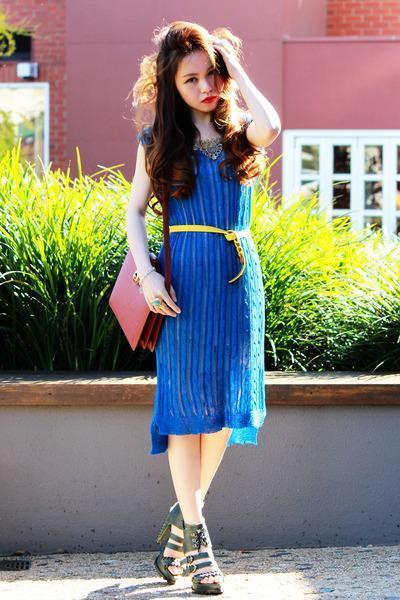bag: (109, 257, 170, 351)
dress: (150, 134, 275, 453)
shoe: (153, 516, 222, 596)
